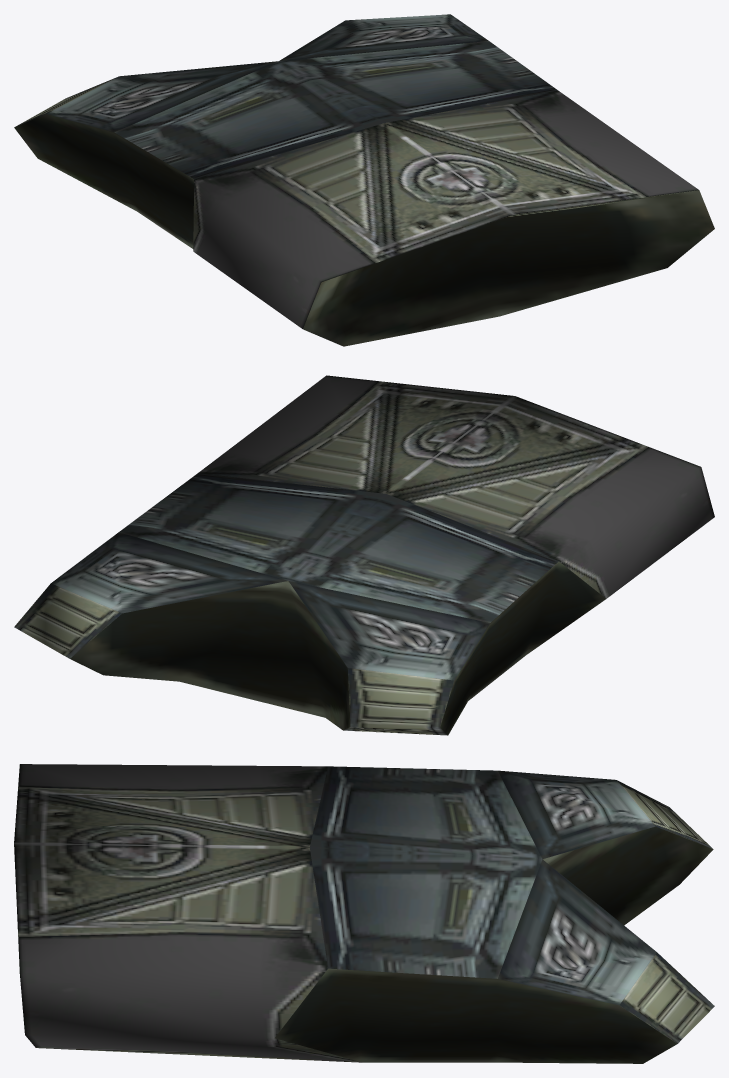
File: TorsoArmour4__FDC.glb
3 views of the same model, one above another, from view 1: azimuth 30°, elevation 25°; view 2: azimuth 150°, elevation 25°; view 3: azimuth 270°, elevation 25° (orthographic). The views are drawn at different scales.
Parts seen in each view (by area): view 1: TorsoArmour4; view 2: TorsoArmour4; view 3: TorsoArmour4.
Boxes of the visible parts, box(x1,y1,x2,y2) form: TorsoArmour4: box(14, 14, 714, 346); TorsoArmour4: box(14, 375, 714, 735); TorsoArmour4: box(14, 764, 714, 1063).
Bounding box in the file's own units: 20.19 × 5.52 × 25.26.
Materials: 1 (1 with a texture image).
